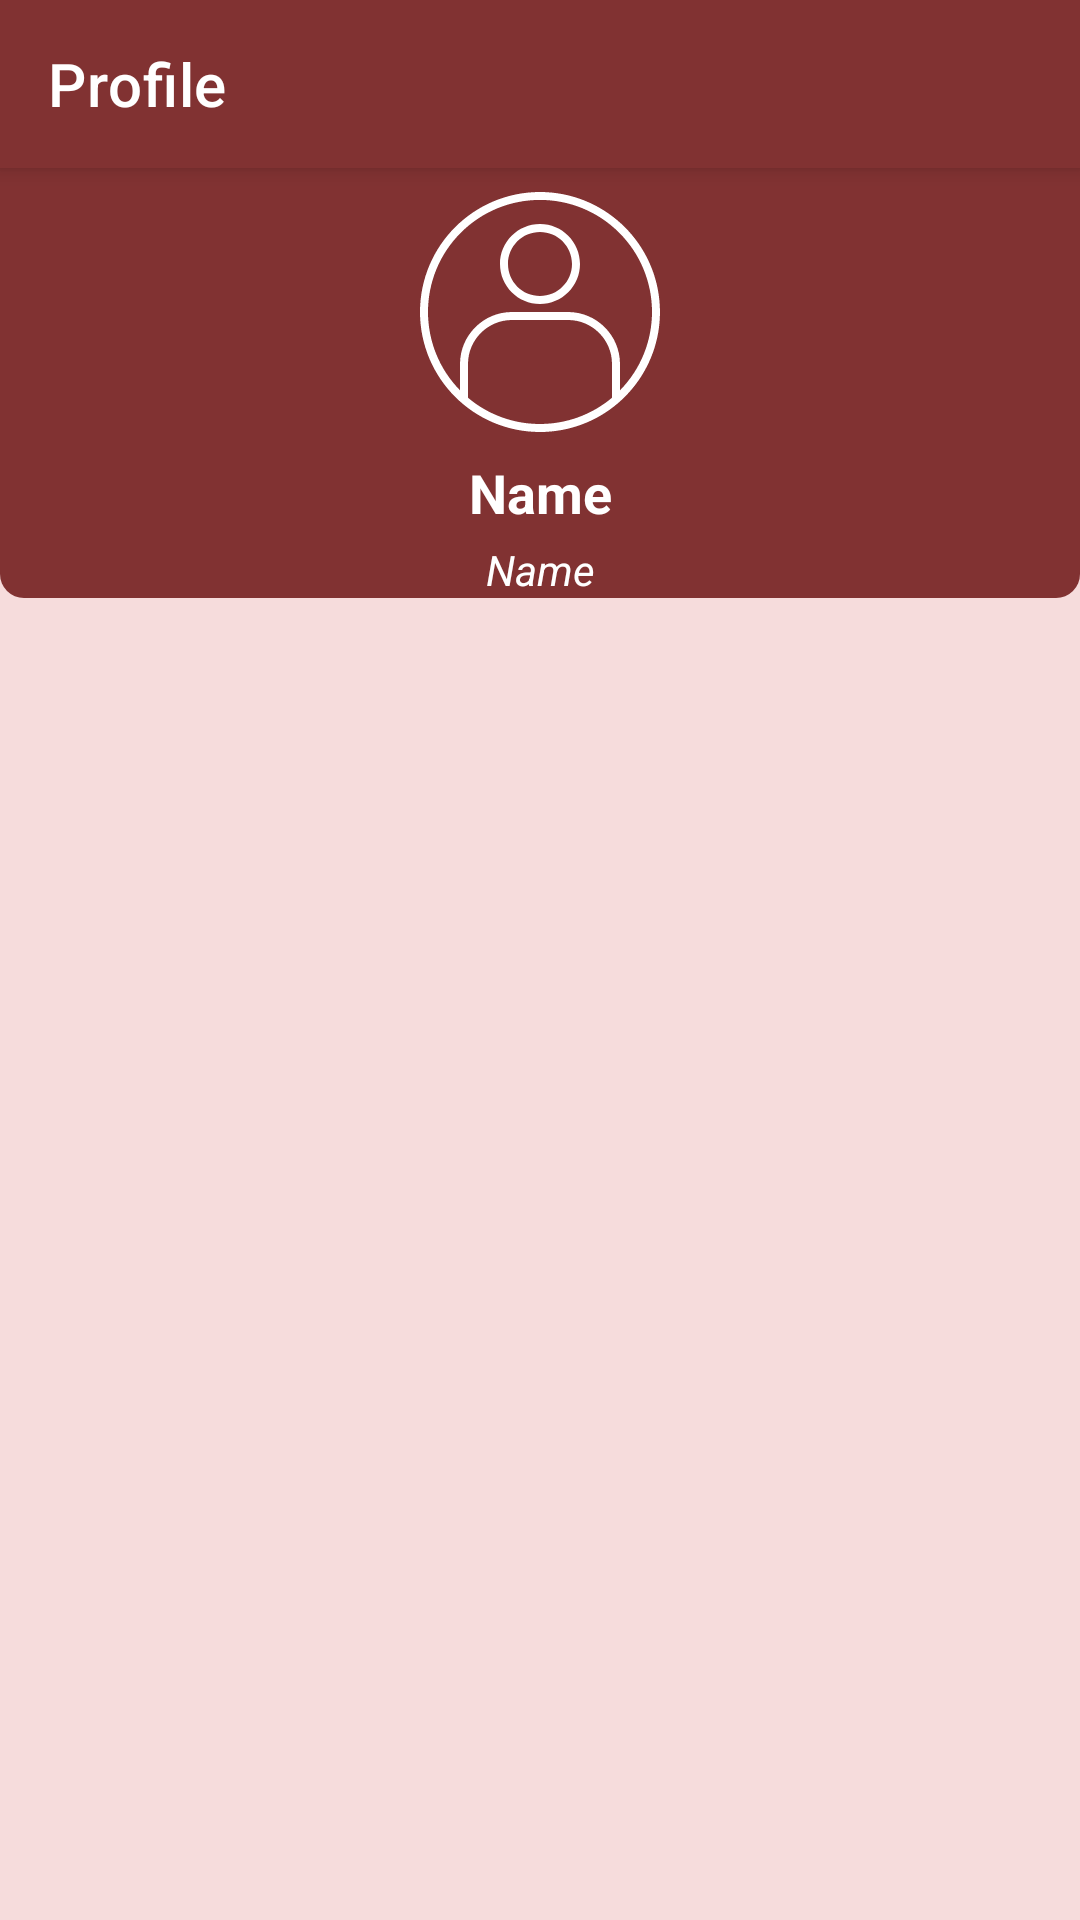

Where to tap for icons on this 1080w x 1920h app screen, as (x=x, y=y):
user: (x=540, y=312)
